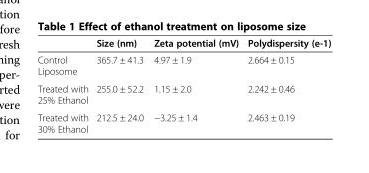table: (36, 36, 330, 134)
table column: (147, 36, 242, 134), (242, 36, 330, 134), (91, 36, 147, 134), (36, 36, 91, 134)
table column header: (36, 36, 330, 51)
table row: (36, 79, 330, 108), (36, 51, 330, 79), (36, 108, 330, 134), (36, 36, 330, 51)
